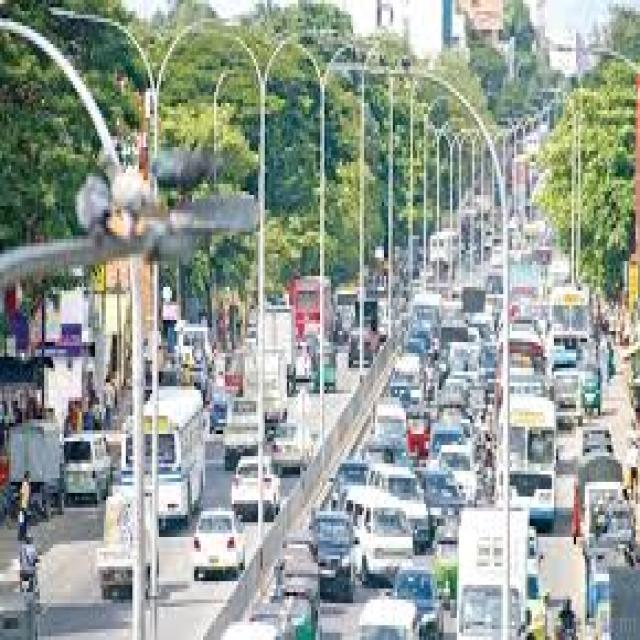bus: (143, 386, 203, 526), (510, 394, 554, 526), (552, 287, 587, 349)
car: (340, 486, 410, 581), (366, 460, 428, 552), (97, 486, 148, 596), (422, 467, 461, 589), (194, 508, 243, 577), (395, 563, 439, 636), (316, 511, 351, 600), (271, 397, 311, 474), (232, 456, 278, 519), (64, 434, 108, 497), (439, 441, 474, 504), (360, 596, 415, 636), (223, 401, 256, 467)
person: (20, 537, 35, 589), (18, 471, 29, 537), (574, 482, 578, 541)
three wheeler: (309, 335, 333, 390), (408, 408, 428, 456)
truck: (458, 508, 525, 636)
